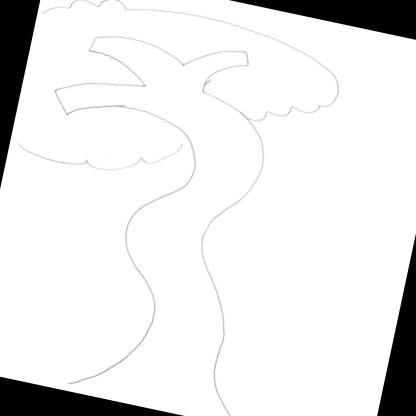branch_cut: (49, 13, 253, 148)
crown_cloud: (9, 0, 349, 215)
trunk_reflex: (102, 176, 262, 346)
